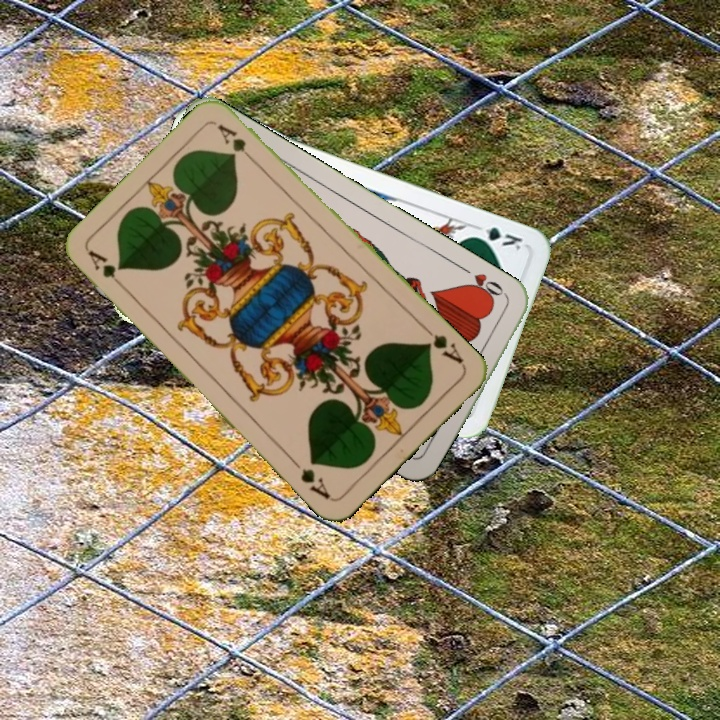GA: (84, 246, 130, 294), (419, 322, 466, 367)
GK: (467, 221, 525, 253)
HO: (458, 263, 511, 305)
